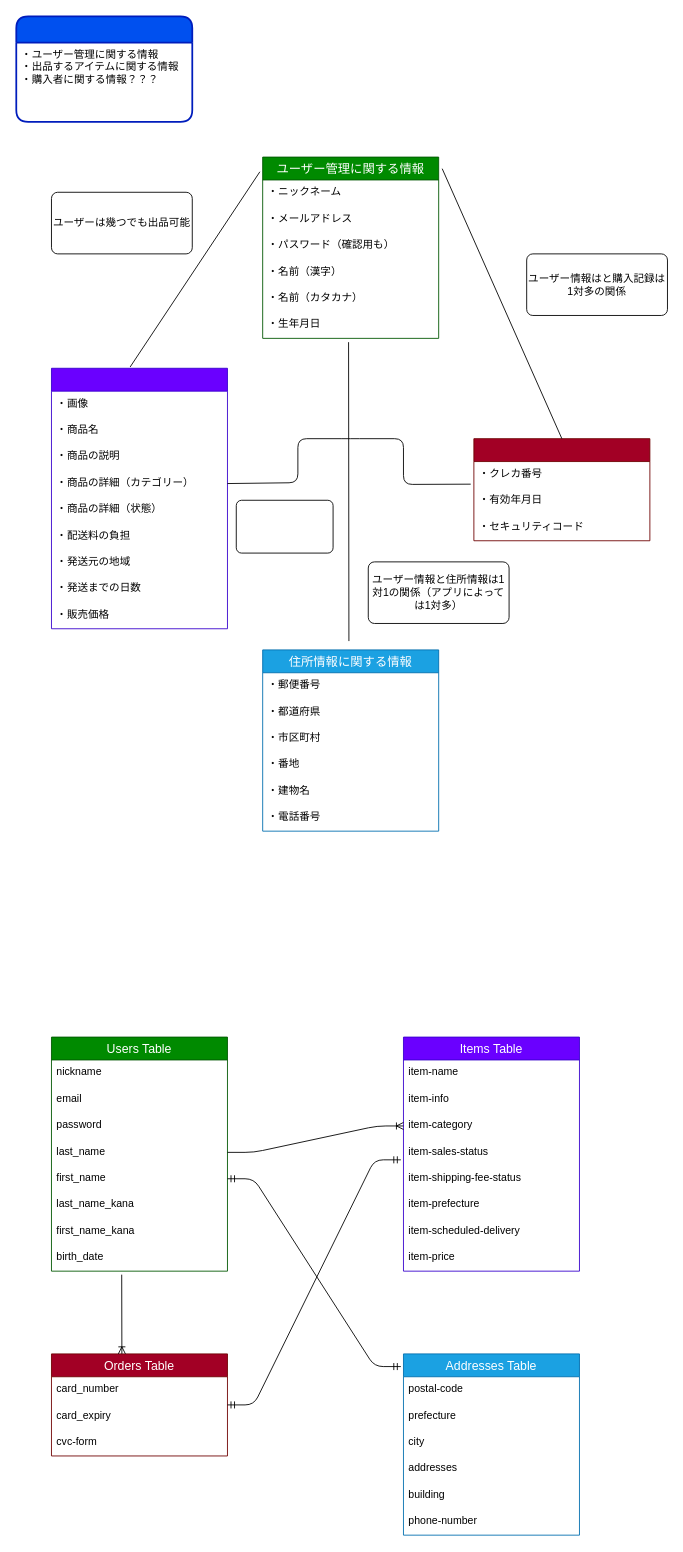
Some shapes in this 683 by 1552 pixel diagram are drawn without their labels. Here are the shapes that lost their labels. From the top down, the box of each, then its label:
(15, 15, 193, 122): Entity
(51, 367, 227, 629): 出品するアイテムに関する情報
(473, 438, 650, 541): 購入記録に関する情報
(235, 499, 333, 553): アイテム情報と購入記録は 1対1の関係
